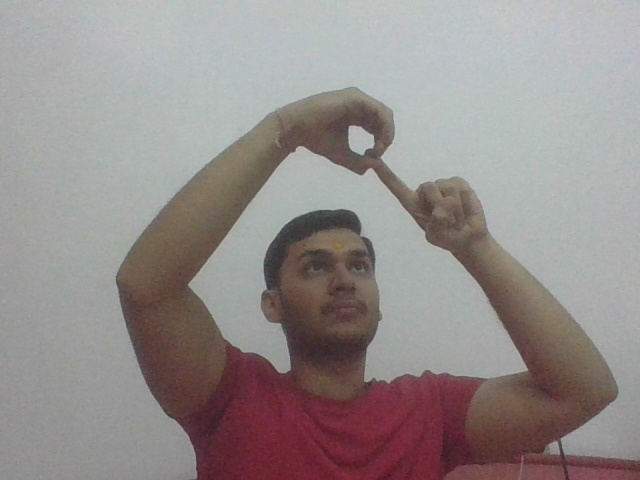Q: (312, 86, 461, 206)
